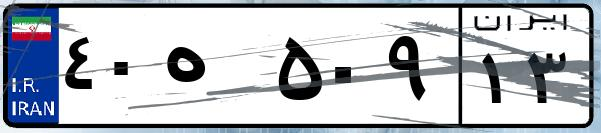0: (330, 28, 385, 110), (110, 28, 158, 98)
1: (475, 38, 525, 113)
3: (525, 38, 570, 115)
4: (57, 26, 110, 100)
5: (270, 28, 330, 110)
9: (385, 28, 445, 110)
ه: (158, 20, 270, 120)
